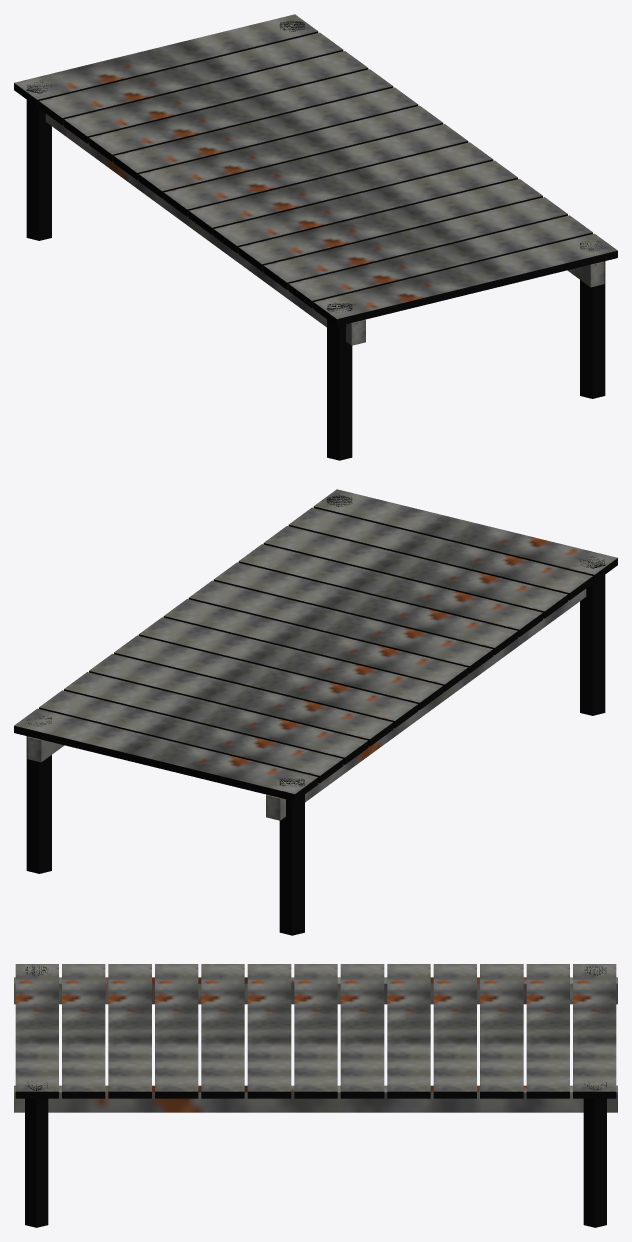
The model's file is SM_dock.fbx.
3 views of the same model, one above another, from view 1: azimuth 30°, elevation 25°; view 2: azimuth 150°, elevation 25°; view 3: azimuth 270°, elevation 25° (orthographic). The views are drawn at different scales.
Parts seen in each view (by area): view 1: dock; view 2: dock; view 3: dock.
Part boxes in pixels (x1,y1,x2,y2): dock: (14, 14, 617, 460); dock: (14, 489, 617, 935); dock: (14, 964, 617, 1227).
Bounding box in the file's own units: 2 × 1 × 4.
